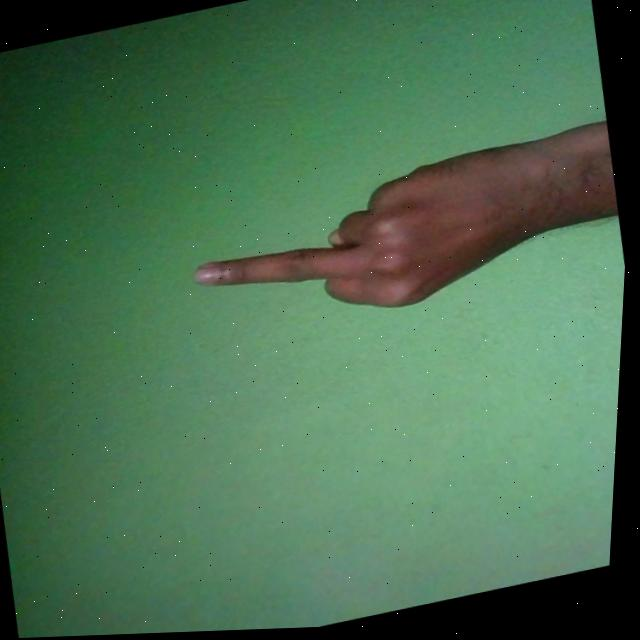Middle Finger: (179, 127, 628, 351)
